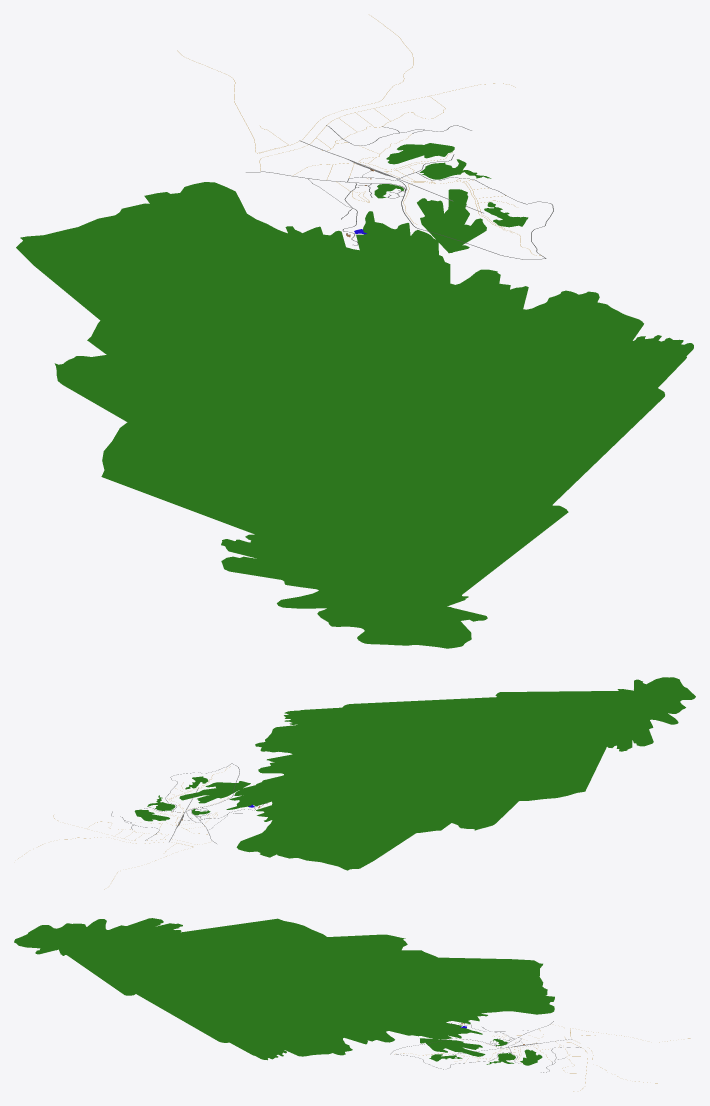
The model's file is OldSeodoStation.fbx.
3 renders of one model, top to bottom at view 1: azimuth 30°, elevation 25°; view 2: azimuth 150°, elevation 25°; view 3: azimuth 270°, elevation 25°, orthographic. The views are drawn at different scales.
Parts seen in each view (by area): view 1: map_8.osm_areas_railways; view 2: map_8.osm_areas_railways; view 3: map_8.osm_areas_railways.
Part boxes in pixels (<box>): map_8.osm_areas_railways: <box>16,16,693,648</box>; map_8.osm_areas_railways: <box>18,677,695,889</box>; map_8.osm_areas_railways: <box>14,918,690,1091</box>.
Size of the model in its own units: 835175 by 1384643 by 1985.
